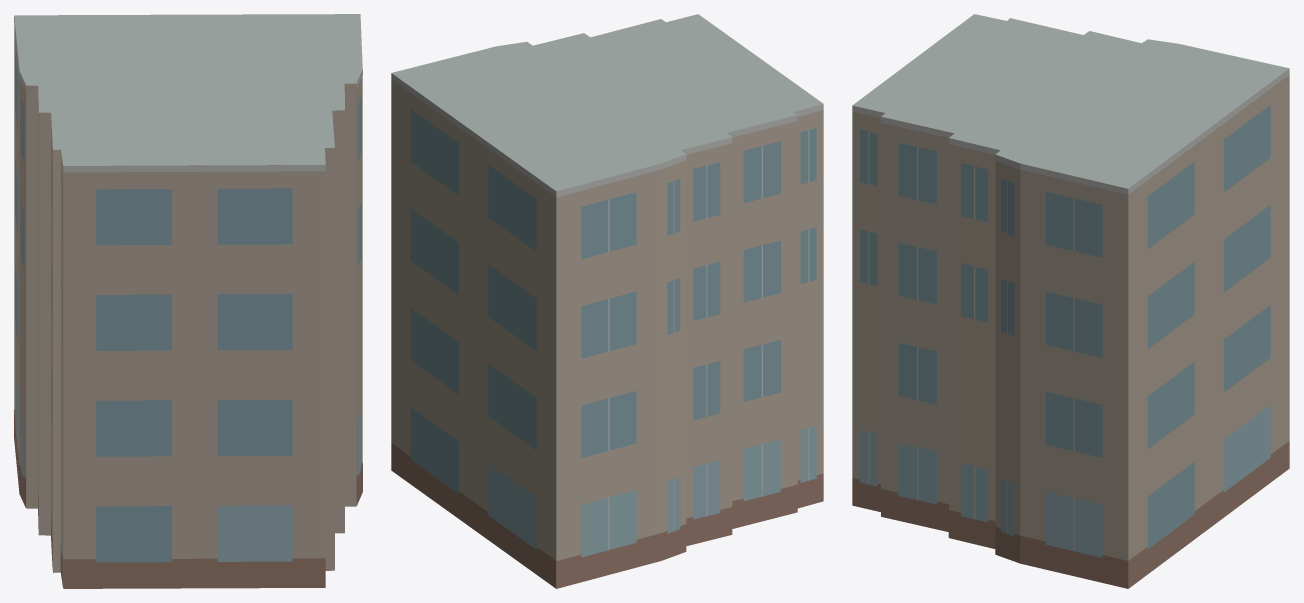
File: survey-upis-32591639.glb
The picture shows the model from 3 angles, left to right: view 1: azimuth 30°, elevation 25°; view 2: azimuth 150°, elevation 25°; view 3: azimuth 270°, elevation 25°; orthographic projection. The views are drawn at different scales.
Visible parts, largest first — view 1: survey-upis-32591639.tmp; view 2: survey-upis-32591639.tmp; view 3: survey-upis-32591639.tmp.
Boxes of the visible parts, x1,y1,x2,y2 form: survey-upis-32591639.tmp: (14,14,362,588); survey-upis-32591639.tmp: (391,14,823,588); survey-upis-32591639.tmp: (852,14,1289,588).
Bounding box in the file's own units: 15.08 × 16.08 × 15.94.
